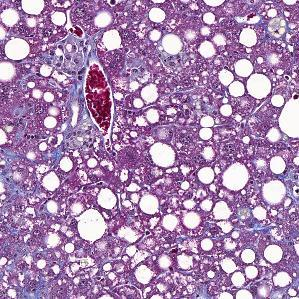fibrosis: (56, 53, 93, 157)
